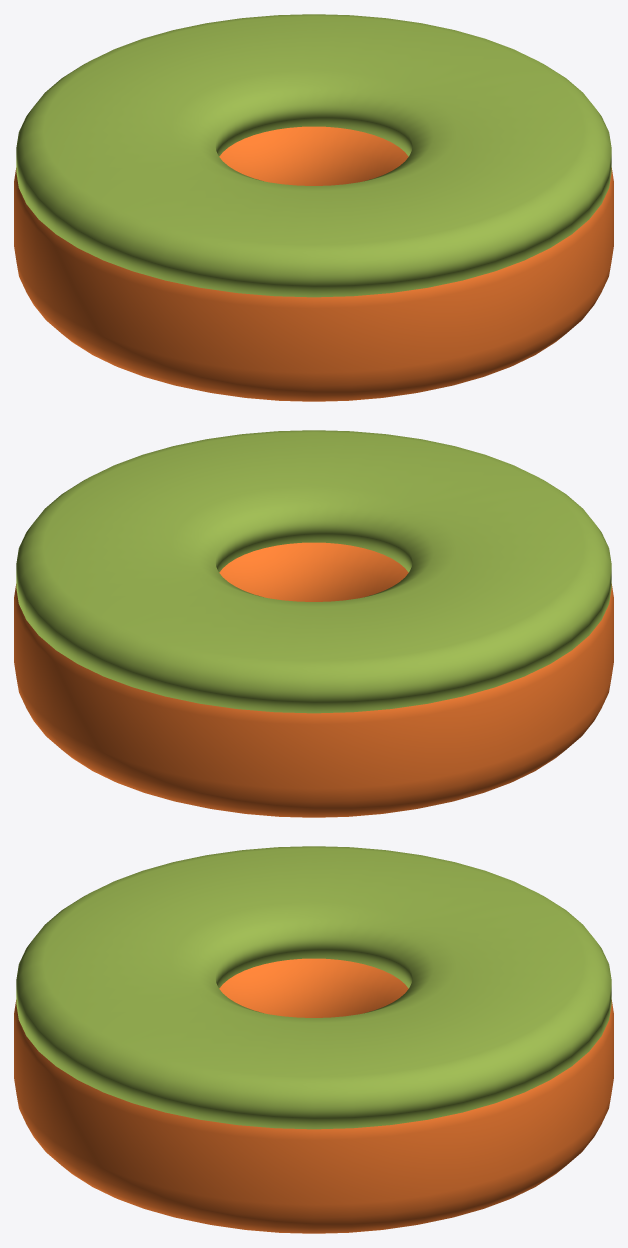
Rendered from mucho_matcha.fbx.
The picture shows the model from 3 angles, top to bottom: view 1: azimuth 30°, elevation 25°; view 2: azimuth 150°, elevation 25°; view 3: azimuth 270°, elevation 25°; orthographic projection.
Visible parts, largest first — view 1: mucho matcha.002; view 2: mucho matcha.002; view 3: mucho matcha.002.
Part boxes in pixels (left/top/right/bottom): mucho matcha.002: left=14, top=14, right=613, bottom=401; mucho matcha.002: left=14, top=430, right=613, bottom=817; mucho matcha.002: left=14, top=846, right=613, bottom=1233.
Bounding box in the file's own units: 224 × 66.5 × 224.
